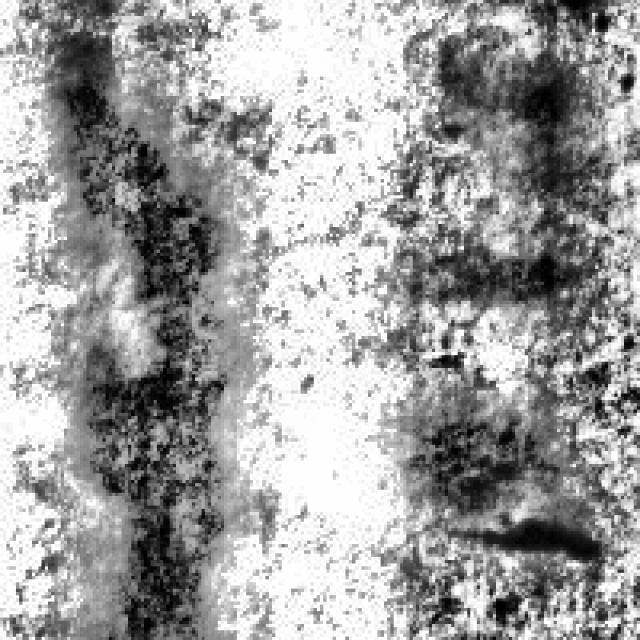Scratches: (42, 26, 246, 634), (387, 394, 573, 532), (458, 48, 576, 182)
